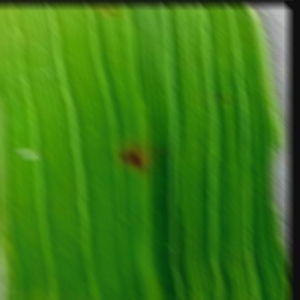Bacterial_Leaf_Blight: (118, 146, 148, 170), (212, 91, 231, 104), (231, 256, 247, 267), (101, 6, 117, 16), (162, 144, 174, 154), (153, 149, 163, 158)
